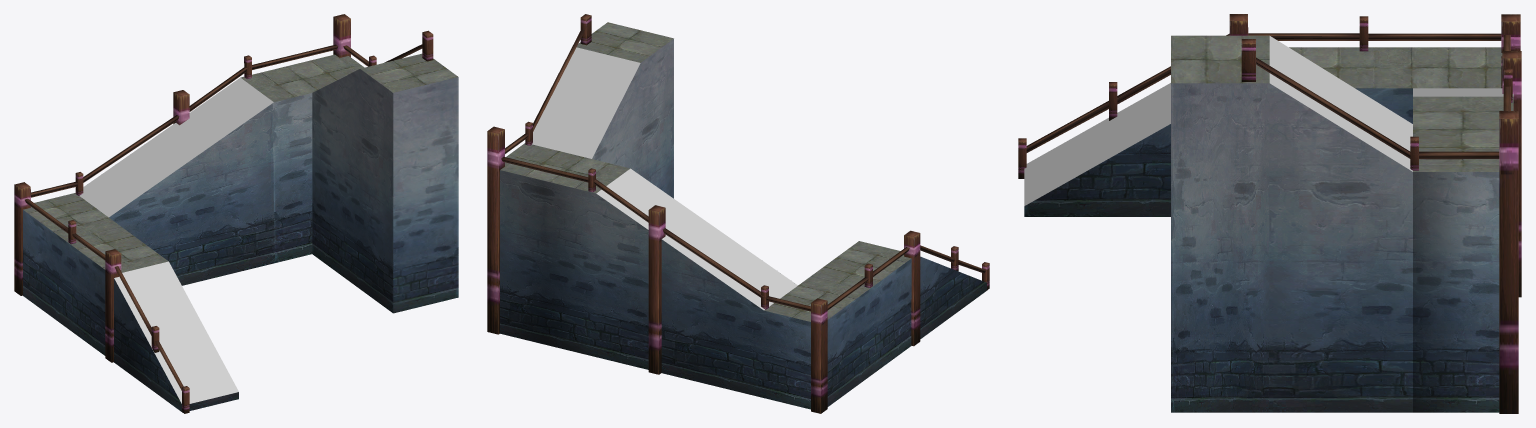
Rendered from environment_building_taijie_001_a.FBX.
3 renders of one model, left to right at view 1: azimuth 30°, elevation 25°; view 2: azimuth 150°, elevation 25°; view 3: azimuth 270°, elevation 25°, orthographic. The views are drawn at different scales.
Visible parts, largest first — view 1: environment_building_taijie_001_a0, environment_building_taijie_001_b0, environment_building_taijie_001_c0, environment_building_taijie_001_b1, environment_building_taijie_001_c2, environment_building_taijie_001_c1, environment_building_taijie_001_b2, environment_building_taijie_001_a1, environment_building_taijie_001_c7, environment_building_taijie_001_c3, environment_building_taijie_001_b6, environment_building_taijie_001_b7 (+5 smaller); view 2: environment_building_taijie_001_b0, environment_building_taijie_001_c0, environment_building_taijie_001_a0, environment_building_taijie_001_a2, environment_building_taijie_001_b1, environment_building_taijie_001_c1, environment_building_taijie_001_b2, environment_building_taijie_001_b4, environment_building_taijie_001_b7, environment_building_taijie_001_a1, environment_building_taijie_001_c3, environment_building_taijie_001_c7 (+5 smaller); view 3: environment_building_taijie_001_a0, environment_building_taijie_001_b0, environment_building_taijie_001_c0, environment_building_taijie_001_c1, environment_building_taijie_001_c2, environment_building_taijie_001_b4, environment_building_taijie_001_b2, environment_building_taijie_001_a2, environment_building_taijie_001_a1, environment_building_taijie_001_c4, environment_building_taijie_001_b7, environment_building_taijie_001_a3 (+6 smaller).
Part boxes in pixels (x1=…): environment_building_taijie_001_a0: x1=312, y1=69, x2=458, y2=313; environment_building_taijie_001_b0: x1=109, y1=93, x2=312, y2=285; environment_building_taijie_001_c0: x1=23, y1=210, x2=238, y2=412; environment_building_taijie_001_b1: x1=79, y1=77, x2=273, y2=217; environment_building_taijie_001_c2: x1=114, y1=261, x2=238, y2=403; environment_building_taijie_001_c1: x1=23, y1=193, x2=168, y2=272; environment_building_taijie_001_b2: x1=240, y1=54, x2=363, y2=102; environment_building_taijie_001_a1: x1=360, y1=53, x2=457, y2=92; environment_building_taijie_001_c7: x1=105, y1=249, x2=189, y2=413; environment_building_taijie_001_c3: x1=14, y1=182, x2=76, y2=295; environment_building_taijie_001_b6: x1=83, y1=67, x2=248, y2=182; environment_building_taijie_001_b7: x1=75, y1=90, x2=189, y2=195; environment_building_taijie_001_b0: x1=500, y1=170, x2=763, y2=397; environment_building_taijie_001_c0: x1=764, y1=256, x2=987, y2=409; environment_building_taijie_001_a0: x1=592, y1=39, x2=673, y2=198; environment_building_taijie_001_a2: x1=532, y1=47, x2=640, y2=158; environment_building_taijie_001_b1: x1=596, y1=168, x2=797, y2=310; environment_building_taijie_001_c1: x1=764, y1=241, x2=910, y2=321; environment_building_taijie_001_b2: x1=500, y1=143, x2=630, y2=193; environment_building_taijie_001_b4: x1=487, y1=126, x2=504, y2=334; environment_building_taijie_001_b7: x1=648, y1=205, x2=768, y2=374; environment_building_taijie_001_a1: x1=577, y1=22, x2=673, y2=62; environment_building_taijie_001_c3: x1=811, y1=263, x2=872, y2=413; environment_building_taijie_001_c7: x1=904, y1=230, x2=989, y2=346; environment_building_taijie_001_a0: x1=1171, y1=83, x2=1412, y2=412; environment_building_taijie_001_b0: x1=1413, y1=172, x2=1499, y2=412; environment_building_taijie_001_c0: x1=1024, y1=88, x2=1412, y2=216; environment_building_taijie_001_c1: x1=1289, y1=47, x2=1502, y2=88; environment_building_taijie_001_c2: x1=1024, y1=83, x2=1170, y2=205; environment_building_taijie_001_b4: x1=1499, y1=111, x2=1518, y2=413; environment_building_taijie_001_b2: x1=1413, y1=96, x2=1513, y2=171; environment_building_taijie_001_a2: x1=1269, y1=36, x2=1412, y2=171; environment_building_taijie_001_a1: x1=1171, y1=35, x2=1269, y2=83; environment_building_taijie_001_c4: x1=1248, y1=33, x2=1501, y2=40; environment_building_taijie_001_b7: x1=1501, y1=51, x2=1521, y2=297; environment_building_taijie_001_a3: x1=1256, y1=57, x2=1410, y2=158.
Bounding box in the file's own units: 212 × 152 × 188.
